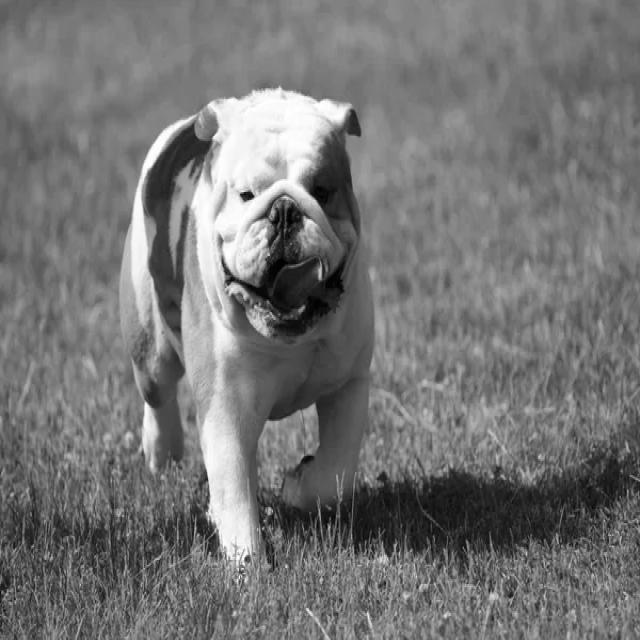Animal: (120, 88, 374, 562)
